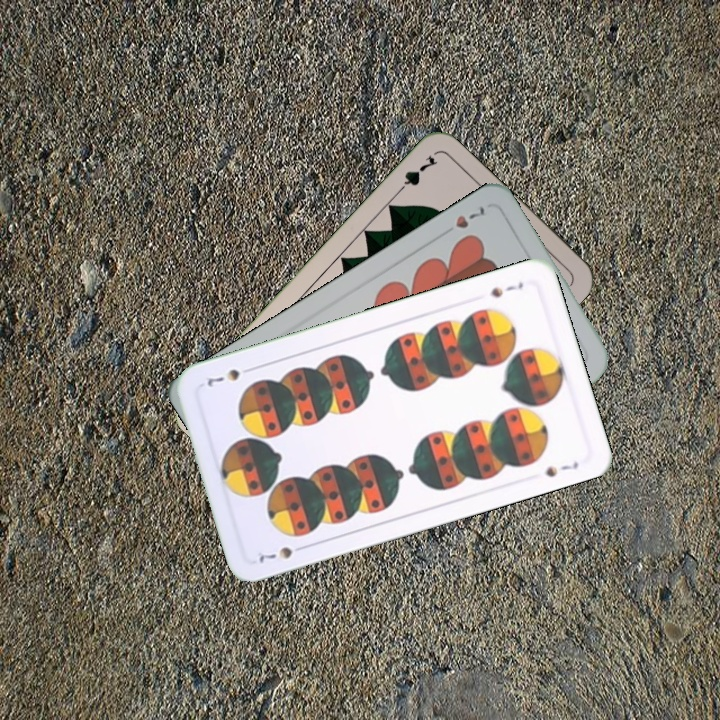G7: (391, 151, 441, 198)
H7: (437, 202, 490, 239)
S7: (254, 541, 310, 566), (486, 277, 526, 300)
